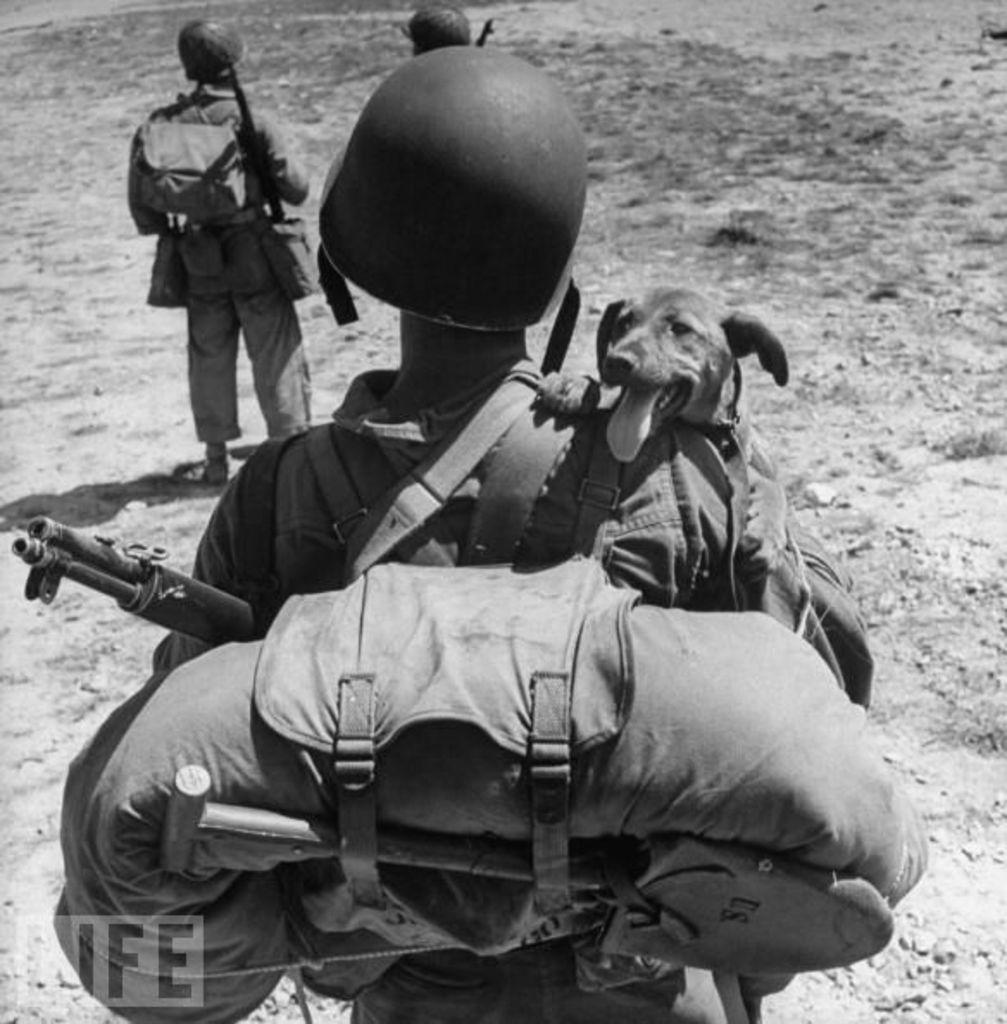Shotgun: (7, 515, 243, 636), (228, 62, 293, 229), (474, 10, 497, 47)
